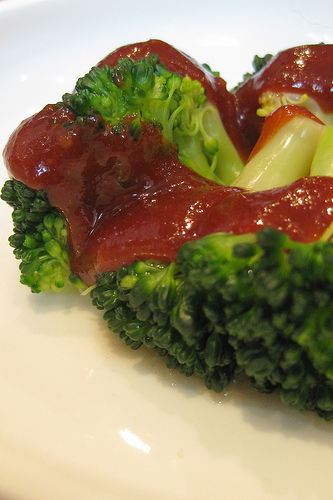broccoli: (88, 226, 331, 422), (63, 51, 230, 185), (0, 176, 85, 292)
